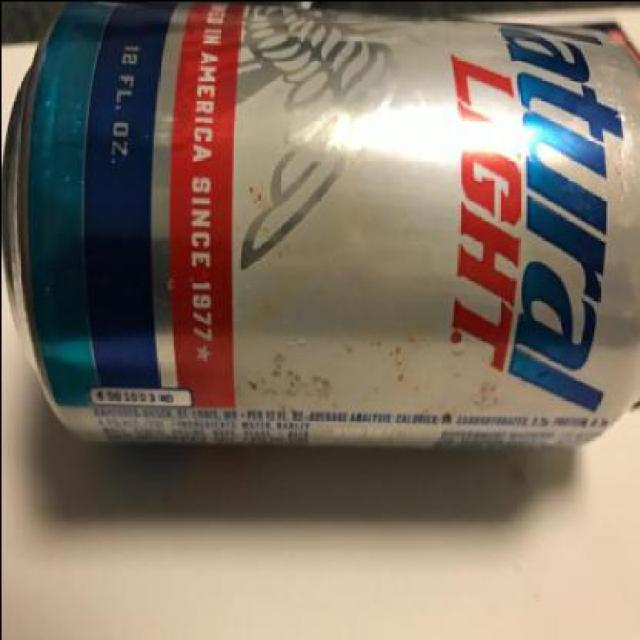METAL: (1, 2, 638, 444)
